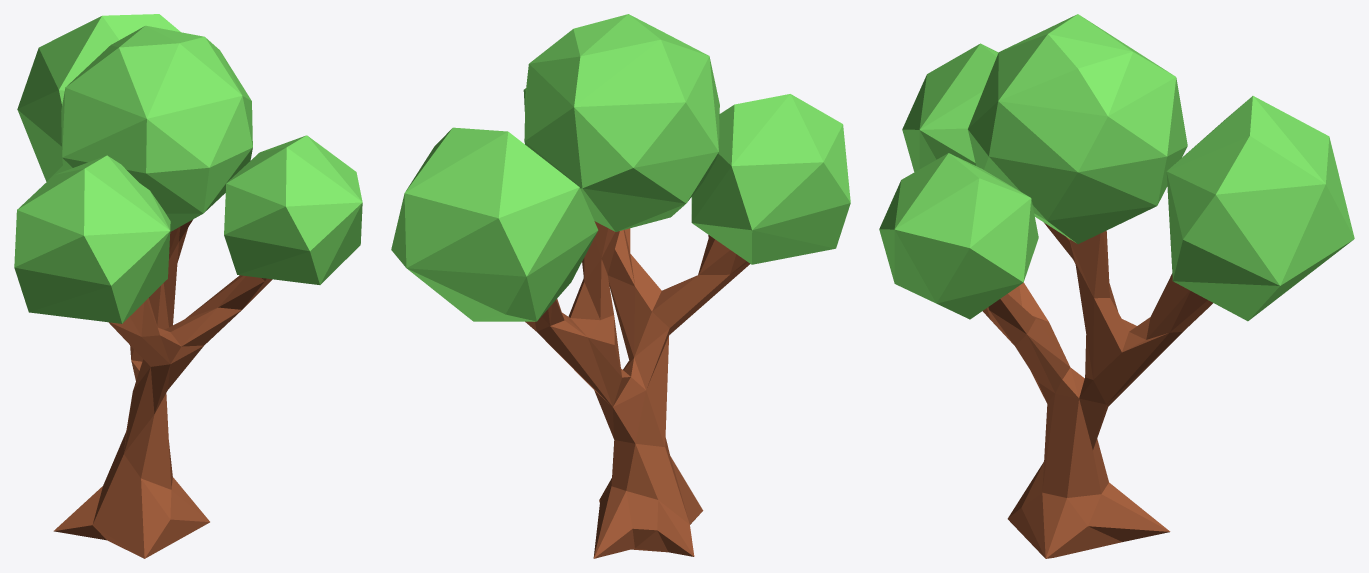
Rendered from Tree_LOD1.fbx.
3 renders of one model, left to right at view 1: azimuth 30°, elevation 25°; view 2: azimuth 150°, elevation 25°; view 3: azimuth 270°, elevation 25°, orthographic. The views are drawn at different scales.
Parts seen in each view (by area): view 1: SM_Tree_LOD1; view 2: SM_Tree_LOD1; view 3: SM_Tree_LOD1.
Part boxes in pixels (x1,y1,x2,y2): SM_Tree_LOD1: (14,14,362,558); SM_Tree_LOD1: (391,14,850,558); SM_Tree_LOD1: (879,14,1354,558).
Bounding box in the file's own units: 389 × 553 × 460.
